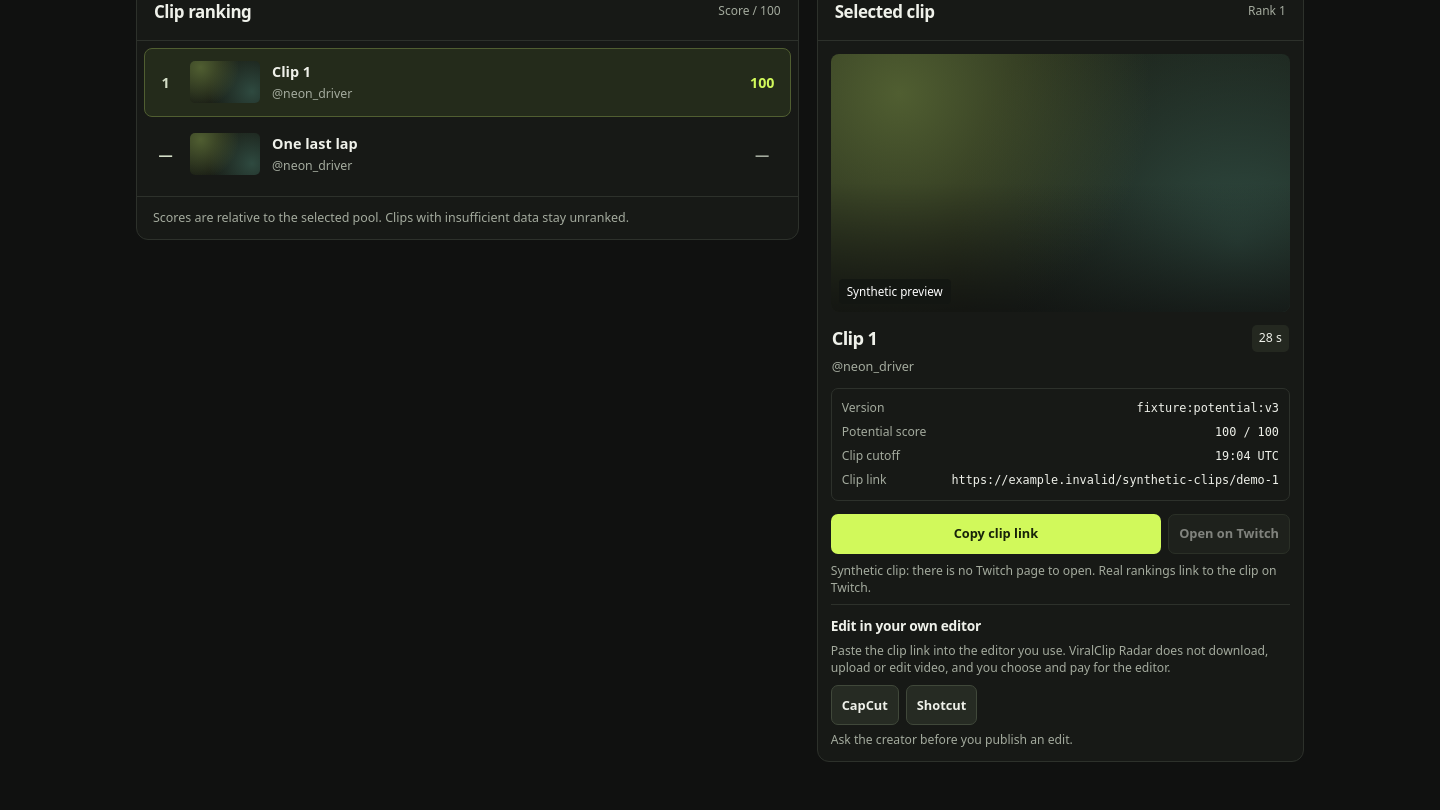
Twitch Shortlist › copies the clip link and reports the result
(page scrolled)
Click the button "Copy clip link" at (996, 534), box x1=831 y1=514 x2=1161 y2=554
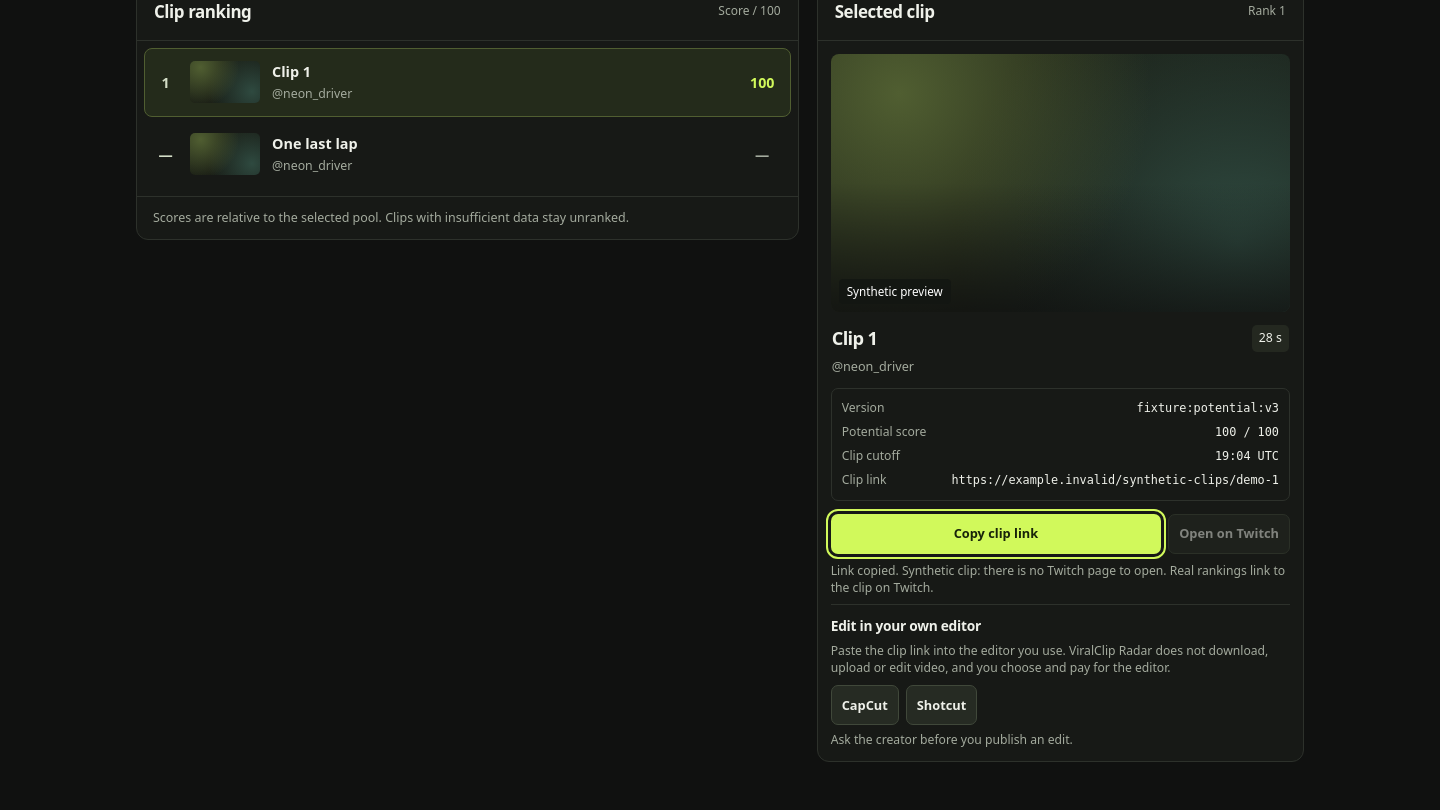
Expected: the message shows "Link copied.", x1=831 y1=562 x2=1285 y2=596
